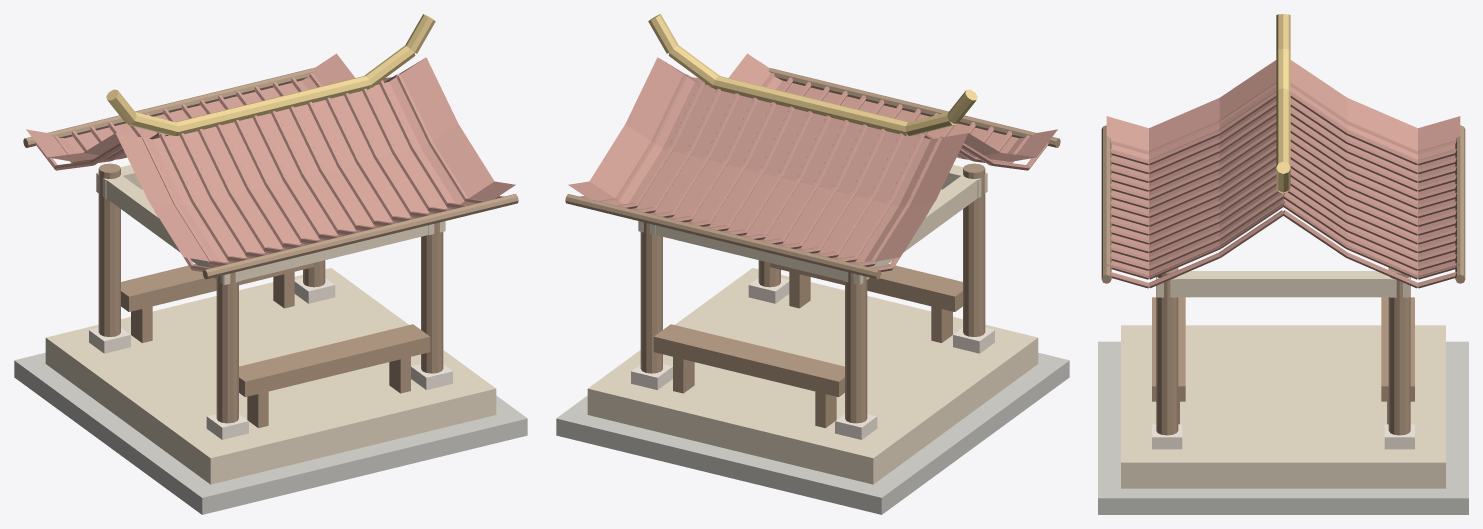
Rendered from town-park-pavilion.glb.
3 renders of one model, left to right at view 1: azimuth 30°, elevation 25°; view 2: azimuth 150°, elevation 25°; view 3: azimuth 270°, elevation 25°, orthographic.
Parts seen in each view (by area): view 1: paving; view 2: paving; view 3: paving.
Boxes of the visible parts, x1,y1,x2,y2 form: paving: (14,14,527,514); paving: (556,14,1069,514); paving: (1098,14,1468,514).
Size of the model in its own units: 2.21 by 2.28 by 2.2.
Materials: 1 (1 with a texture image).
